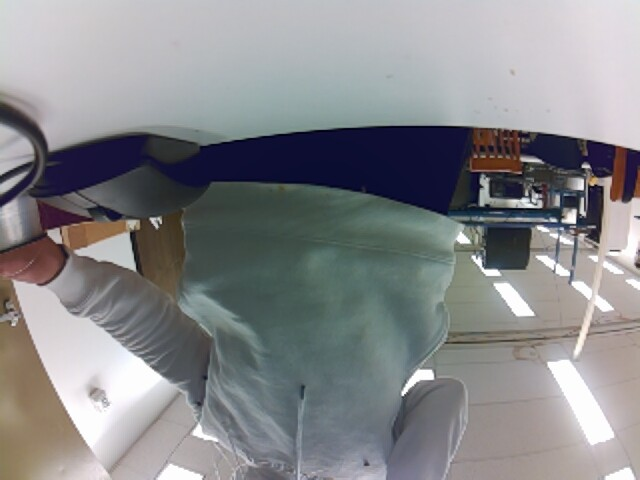mosquito: (362, 459, 371, 469), (195, 399, 203, 408), (202, 373, 209, 382)
